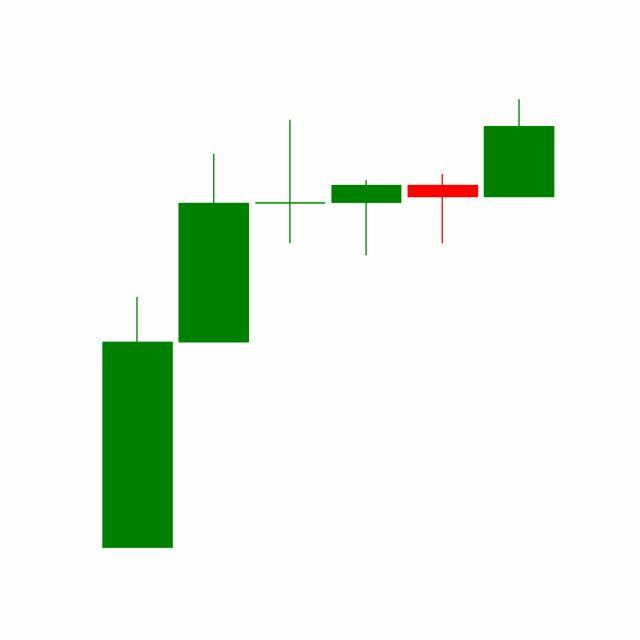Hanging Man: (404, 174, 482, 245)
